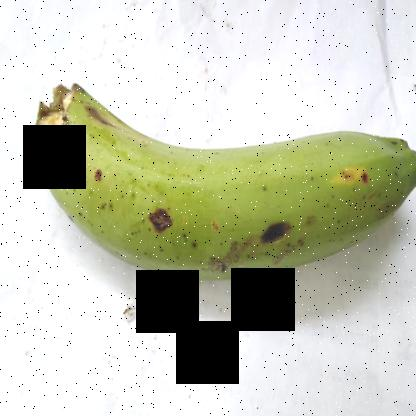rotten: (231, 187, 314, 266), (130, 194, 198, 254)
unripe: (26, 62, 410, 294)
